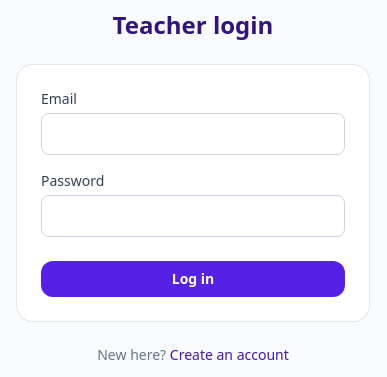
Test: Login page › disables the submit button while submitting
Type "ada@example.com" into the field labelled "Email" at (193, 134), box [41,113,345,155]
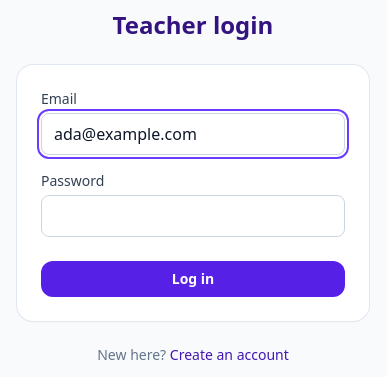
Type "supersecret1" into the password field labelled "Password" at (193, 216), box [41,195,345,237]
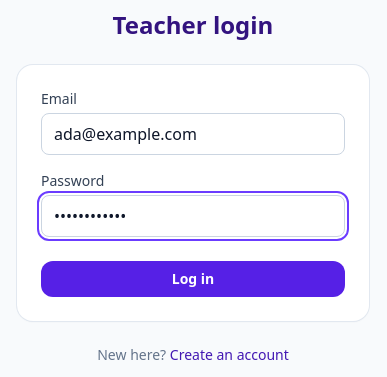
Click the button "Log in" at (193, 279), box [41,261,345,297]
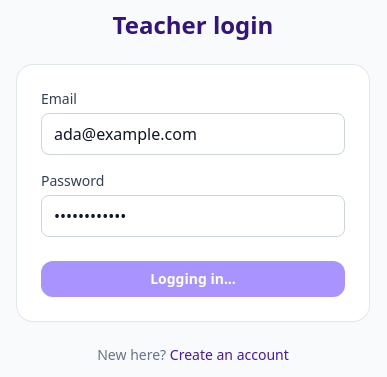
Expected: the button "Logging in..." is disabled, [41,261,345,297]
